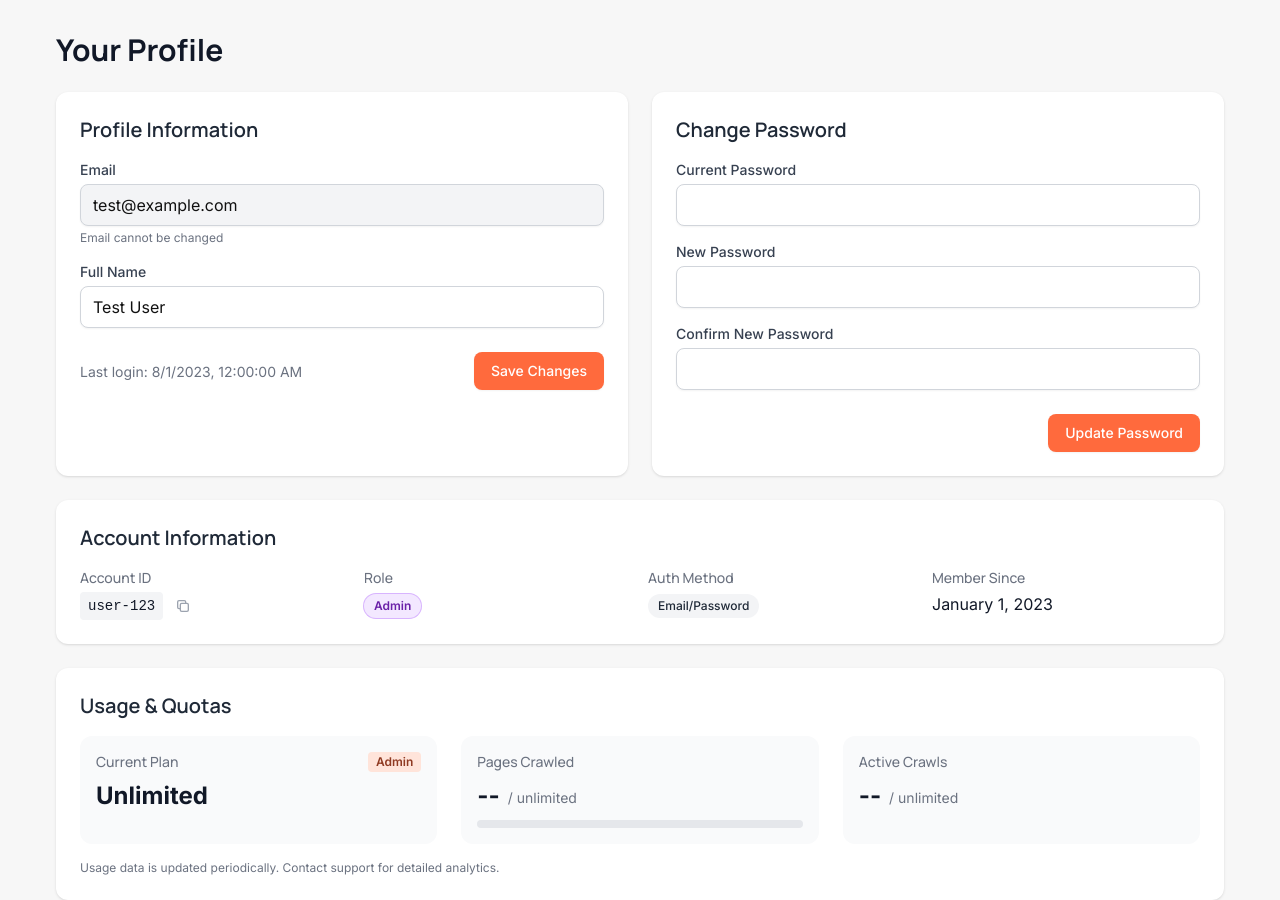
it: ProfilePage Component › shows error message when profile update fails
Click the button "Save Changes" at (539, 371), box left=474, top=352, right=604, bottom=390
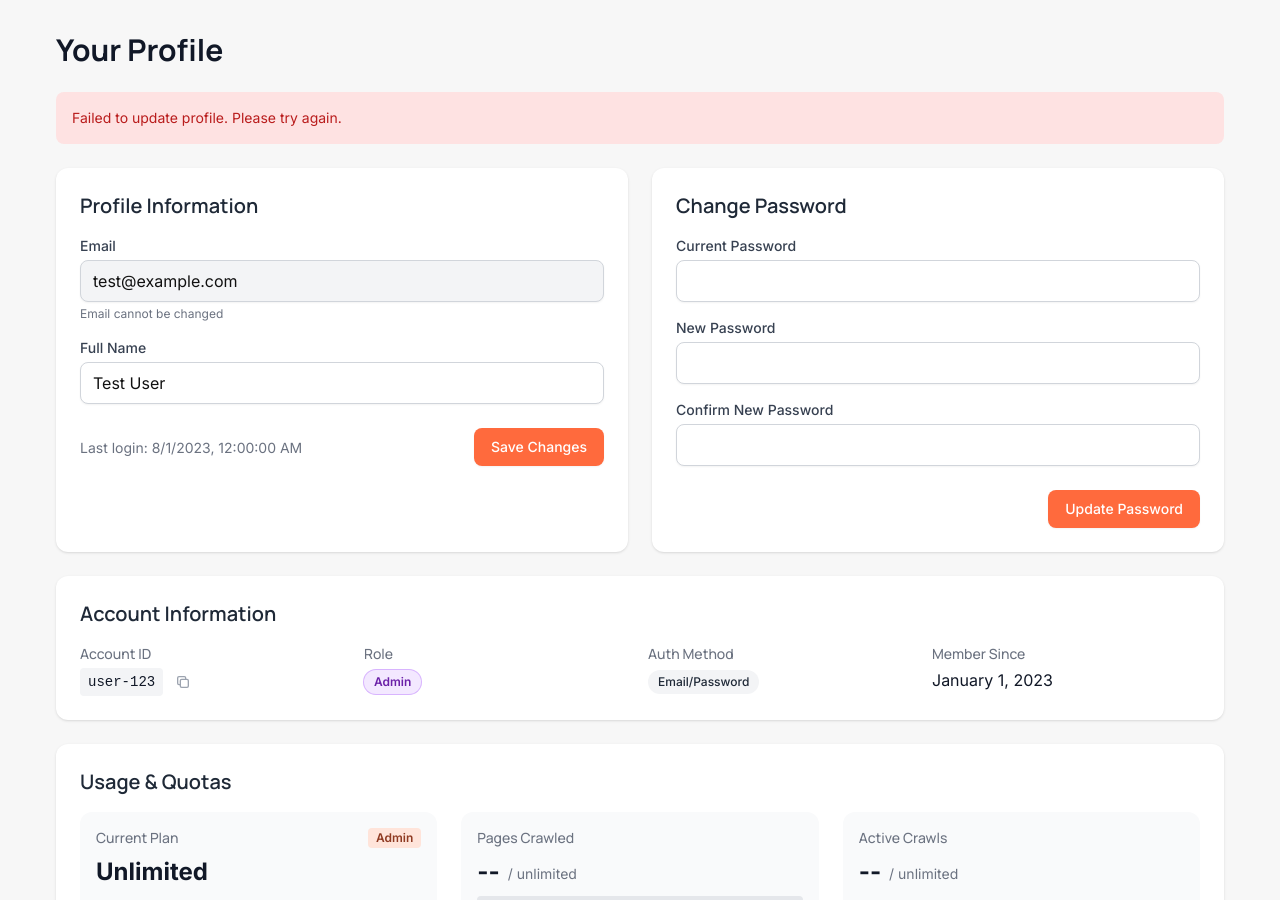
Now the text "Failed to update profile. Please try again." is shown, box left=56, top=92, right=1224, bottom=144
